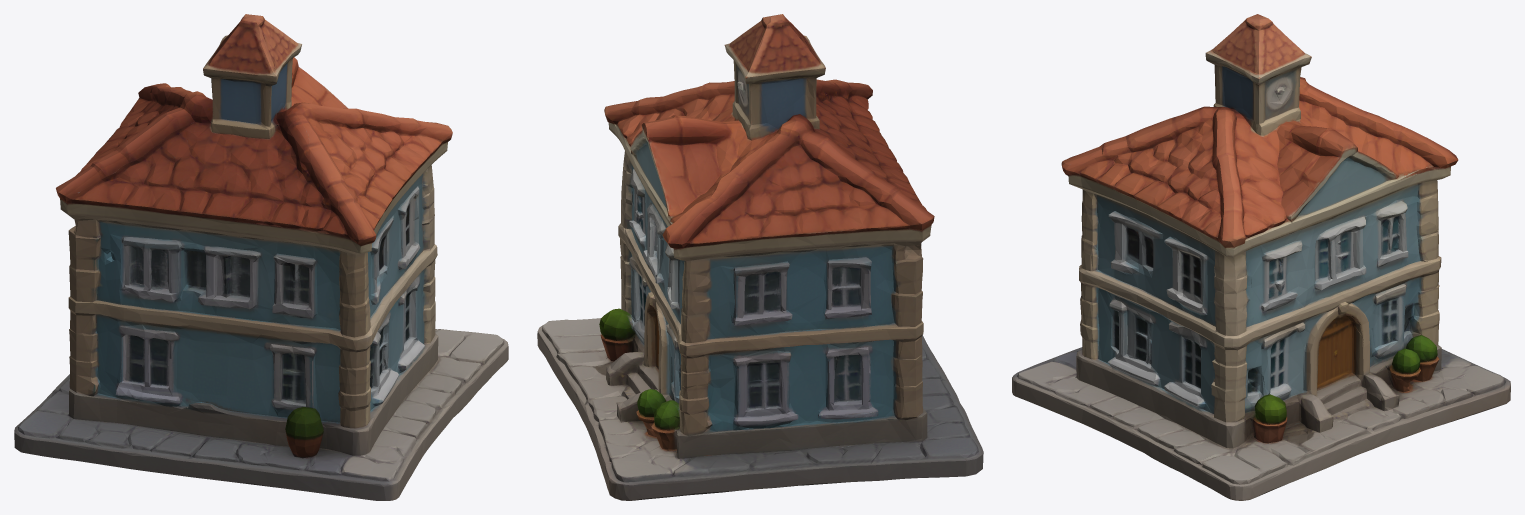
File: edificio_biblioteca.glb
The picture shows the model from 3 angles, left to right: view 1: azimuth 30°, elevation 25°; view 2: azimuth 150°, elevation 25°; view 3: azimuth 270°, elevation 25°; orthographic projection. The views are drawn at different scales.
Parts seen in each view (by area): view 1: world; view 2: world; view 3: world.
Boxes of the visible parts, x1,y1,x2,y2 form: world: (14, 14, 508, 500); world: (537, 14, 983, 500); world: (1012, 14, 1510, 500).
Size of the model in its own units: 0.8486 by 0.6901 by 0.8347.
1 material, 1 textured.
